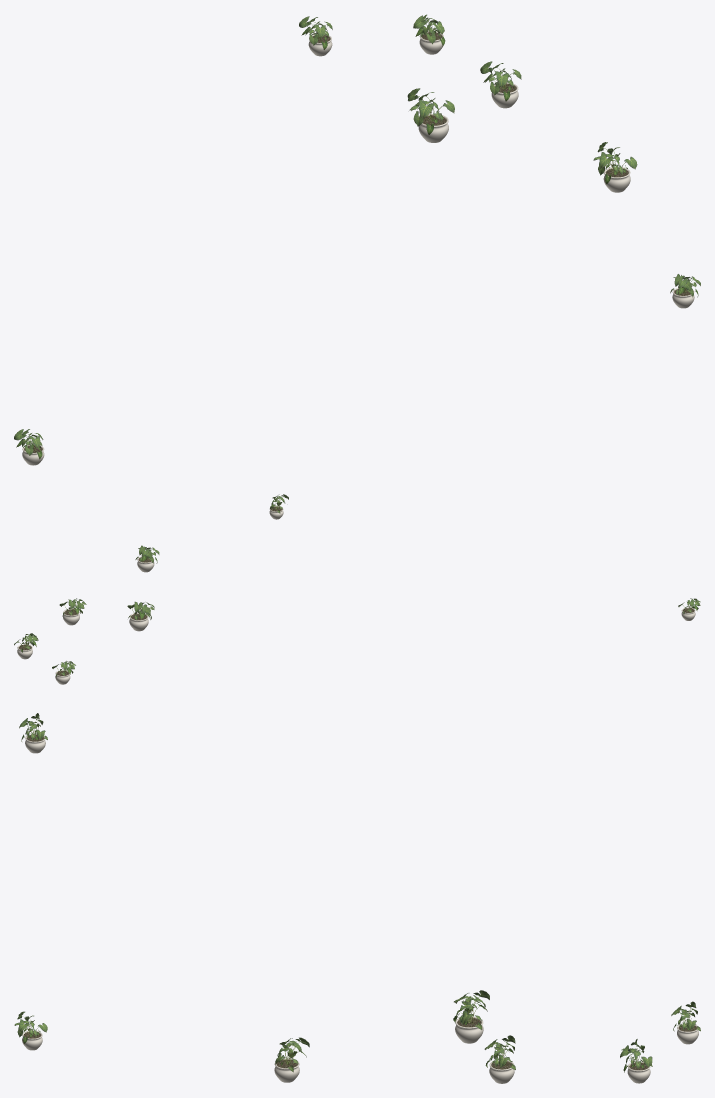
File: PLANTS.glb
3 views of the same model, one above another, from view 1: azimuth 30°, elevation 25°; view 2: azimuth 150°, elevation 25°; view 3: azimuth 270°, elevation 25° (orthographic). The views are drawn at different scales.
Visible parts, largest first — view 1: WEBPLANT_00, WEBPLANT_02, WEBPLANT_03, WEBPLANT_04, WEBPLANT_01, WEBPLANT_06; view 2: WEBPLANT_00, WEBPLANT_03, WEBPLANT_02, WEBPLANT_04, WEBPLANT_01; view 3: WEBPLANT_00, WEBPLANT_03, WEBPLANT_02, WEBPLANT_04, WEBPLANT_01, WEBPLANT_05, WEBPLANT_06.
Part boxes in pixels (x1,y1,x2,y2): WEBPLANT_00: (407,88,454,142); WEBPLANT_02: (593,142,637,192); WEBPLANT_03: (480,61,521,108); WEBPLANT_04: (413,14,445,54); WEBPLANT_01: (299,16,332,56); WEBPLANT_06: (14,429,44,465); WEBPLANT_00: (127,601,154,631); WEBPLANT_03: (59,598,86,625); WEBPLANT_02: (135,545,159,572); WEBPLANT_04: (14,633,38,659); WEBPLANT_01: (52,661,75,684); WEBPLANT_00: (453,990,489,1043); WEBPLANT_03: (484,1035,515,1083); WEBPLANT_02: (274,1037,309,1082); WEBPLANT_04: (620,1039,652,1083); WEBPLANT_01: (671,1001,700,1044); WEBPLANT_05: (14,1011,47,1050); WEBPLANT_06: (19,713,47,753).
Bounding box in the file's own units: 11.96 × 0.7439 × 10.04.
3 materials, 2 textured.
